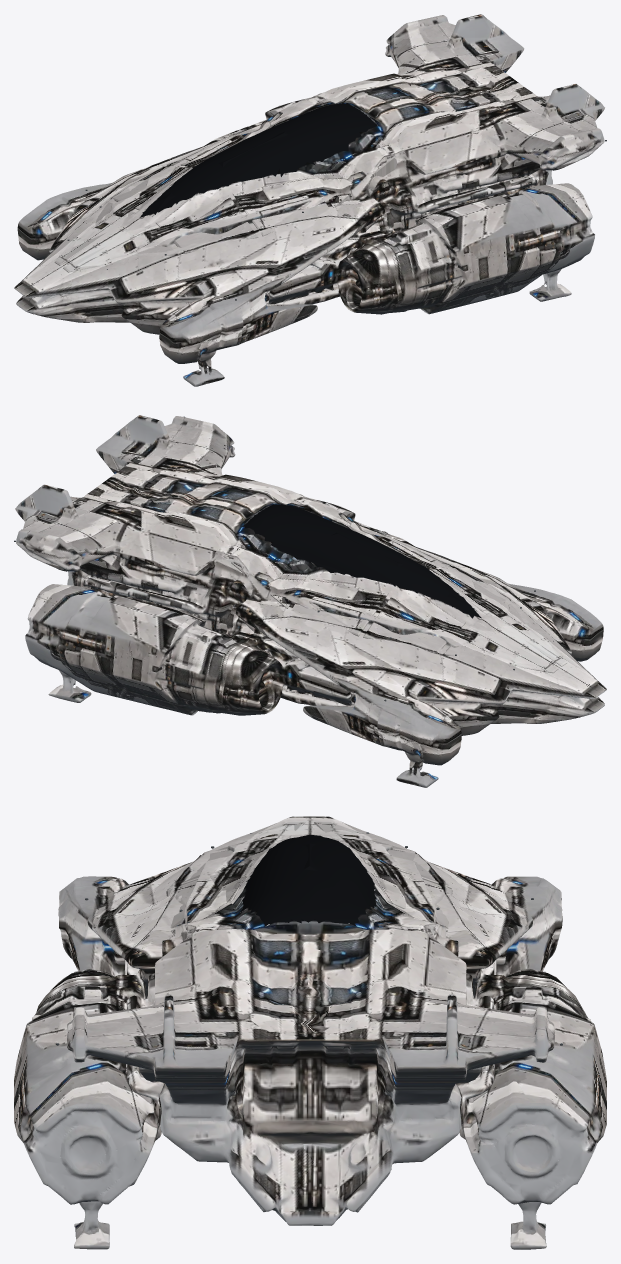
Rendered from silver_sentinel_web.glb.
The picture shows the model from 3 angles, top to bottom: view 1: azimuth 30°, elevation 25°; view 2: azimuth 150°, elevation 25°; view 3: azimuth 270°, elevation 25°; orthographic projection. The views are drawn at different scales.
Parts seen in each view (by area): view 1: Refined hull and propulsion, Cockpit underlying shell, Eight beveled hull armor plates, Faceted black canopy; view 2: Refined hull and propulsion, Eight beveled hull armor plates, Cockpit underlying shell, Faceted black canopy; view 3: Refined hull and propulsion, Cockpit underlying shell, Eight beveled hull armor plates.
Boxes of the visible parts, x1,y1,x2,y2 form: Refined hull and propulsion: (14, 14, 604, 386); Cockpit underlying shell: (142, 103, 378, 214); Eight beveled hull armor plates: (54, 95, 396, 272); Faceted black canopy: (139, 103, 377, 217); Refined hull and propulsion: (15, 415, 606, 787); Eight beveled hull armor plates: (223, 497, 566, 673); Cockpit underlying shell: (242, 504, 474, 618); Faceted black canopy: (244, 504, 481, 618); Refined hull and propulsion: (14, 816, 606, 1249); Cockpit underlying shell: (240, 836, 376, 926); Eight beveled hull armor plates: (166, 822, 452, 940).
Size of the model in its own units: 1.9 by 0.6109 by 1.22.
Materials: 4 (2 with a texture image).
